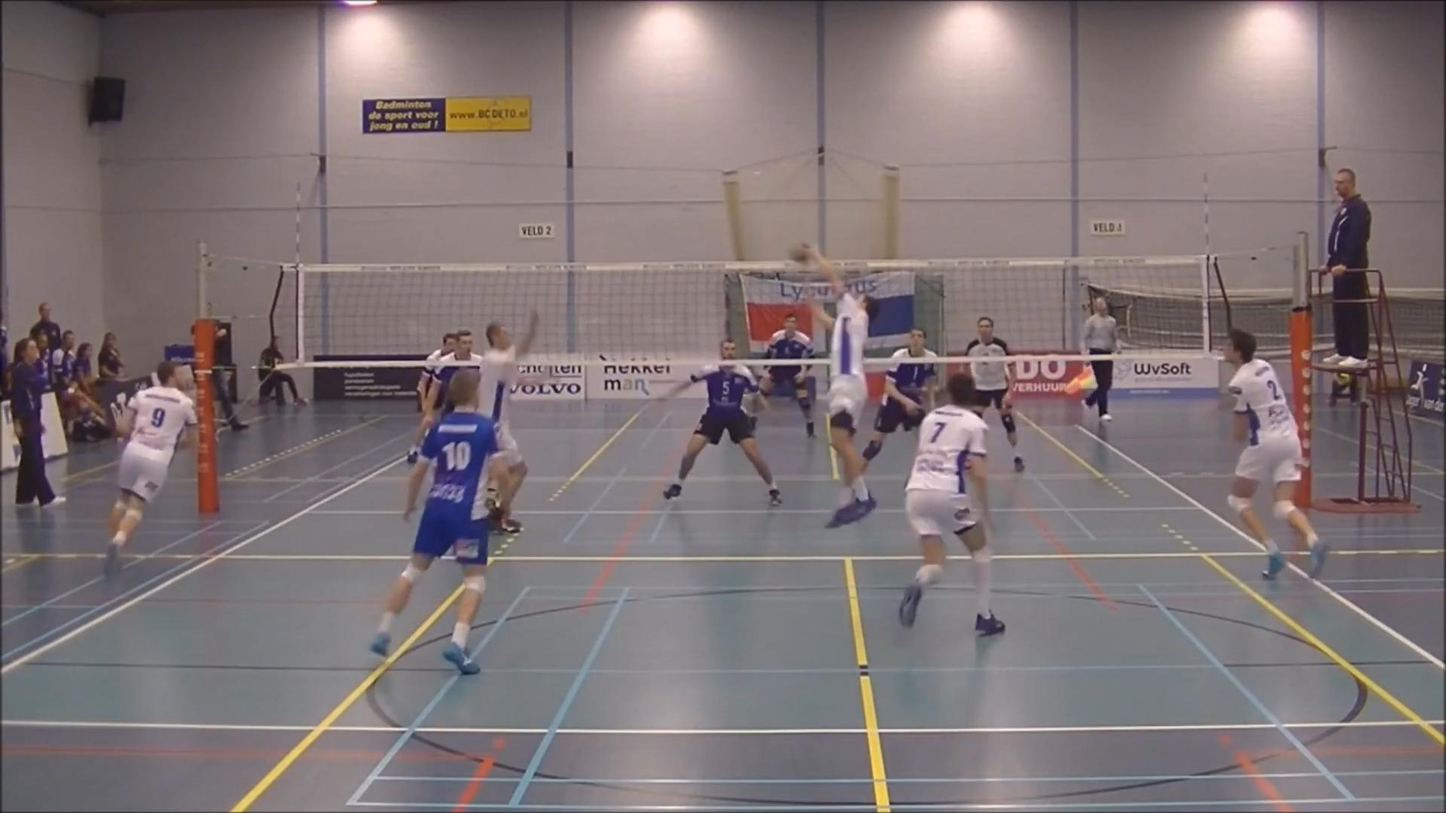Player: (370, 367, 504, 674), (898, 373, 1005, 636), (1225, 328, 1328, 579), (105, 361, 197, 574), (662, 340, 780, 505), (479, 312, 539, 534), (862, 327, 937, 466), (965, 317, 1024, 472), (407, 333, 456, 463), (421, 329, 480, 431), (760, 364, 814, 437)
Set: (783, 234, 886, 535)
ball: (791, 237, 812, 264)
